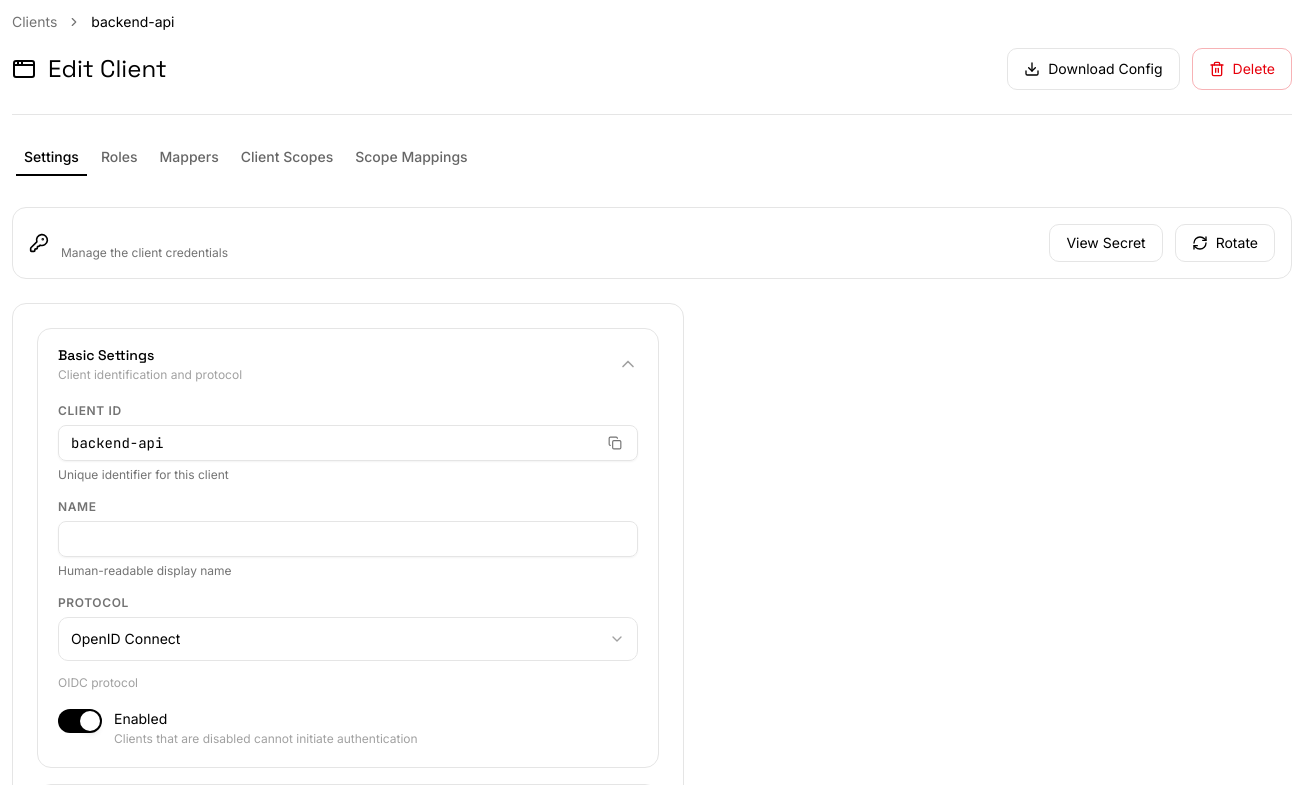
Scenario: ClientEditPage › shows the full-scope info note on the scope mappings tab
Click the tab "Scope Mappings".
click(412, 157)  # box [346,142,477,172]
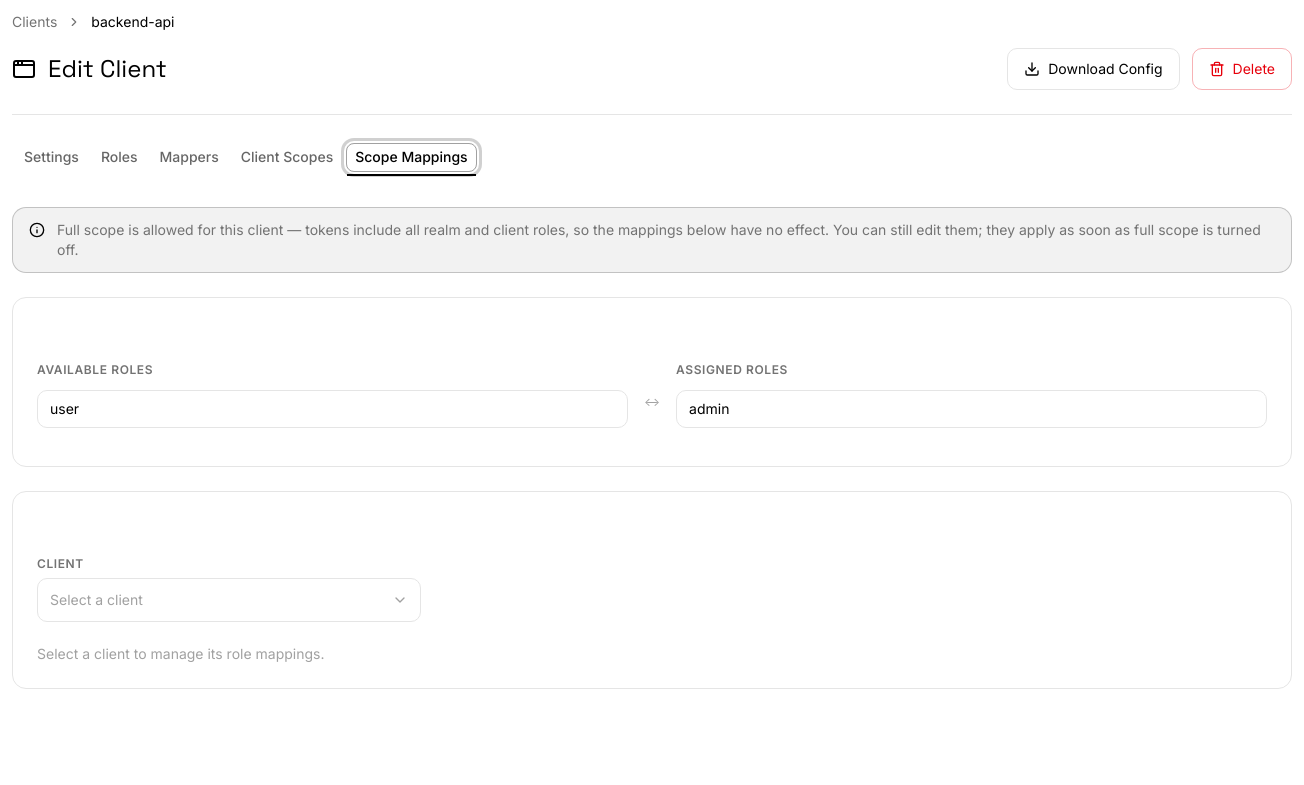
Expected: the text "user" is shown, [50,400,79,417]
Now the text "Full scope is allowed" is shown, box [57,221,1261,258]
Now the text "admin" is shown, box [689,400,729,417]
